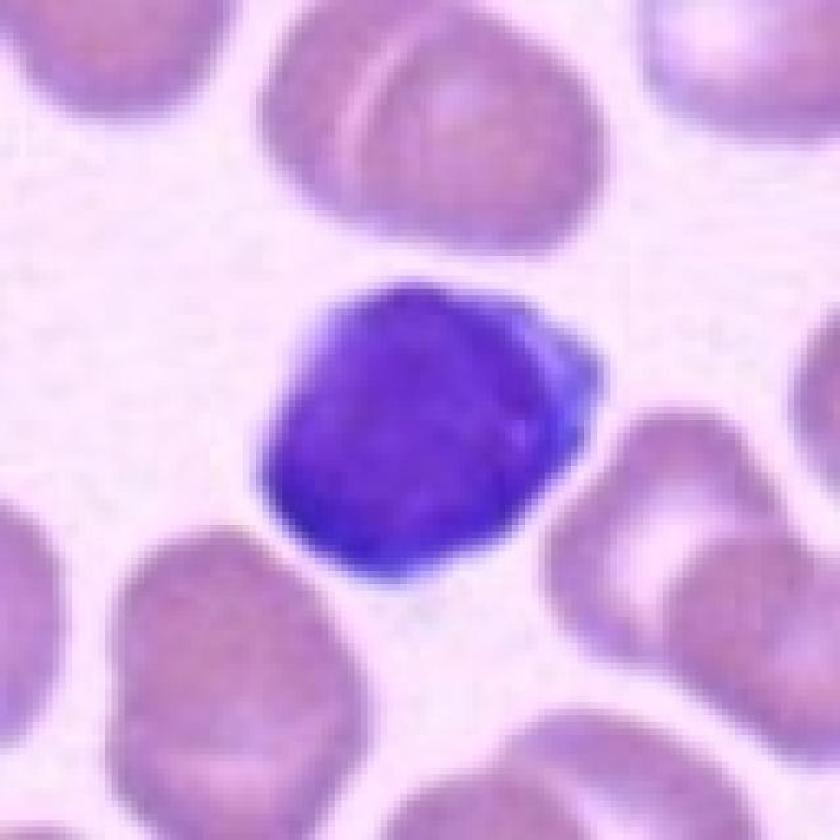lymphocyte: (252, 267, 619, 589)
